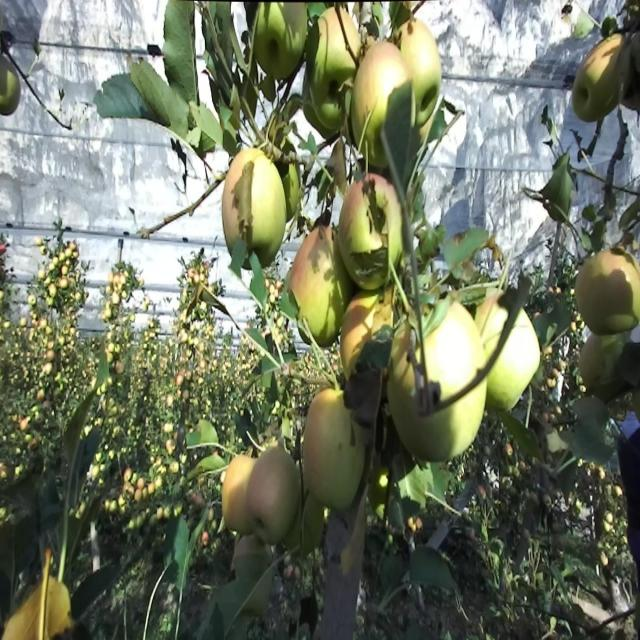apple: (288, 220, 351, 352), (304, 385, 367, 517), (420, 298, 484, 405), (220, 148, 284, 251), (228, 148, 291, 252), (572, 241, 640, 336), (352, 35, 410, 146), (484, 305, 543, 414), (340, 175, 400, 276), (252, 440, 302, 546), (292, 227, 344, 327), (256, 0, 307, 85), (248, 156, 290, 252), (320, 6, 367, 85), (444, 383, 488, 462), (404, 20, 443, 105), (472, 291, 510, 377), (572, 49, 611, 126), (220, 454, 255, 539), (308, 276, 344, 352), (588, 42, 623, 119), (272, 6, 306, 84), (576, 333, 618, 395), (340, 305, 376, 375), (304, 79, 345, 140), (252, 6, 286, 73), (36, 575, 72, 638), (4, 589, 44, 639), (308, 300, 342, 352), (572, 70, 601, 126), (304, 497, 330, 555), (412, 93, 440, 144), (48, 582, 73, 638), (0, 63, 24, 119), (368, 461, 391, 517), (364, 129, 389, 176), (4, 604, 35, 638), (256, 236, 283, 270), (260, 77, 278, 103)
